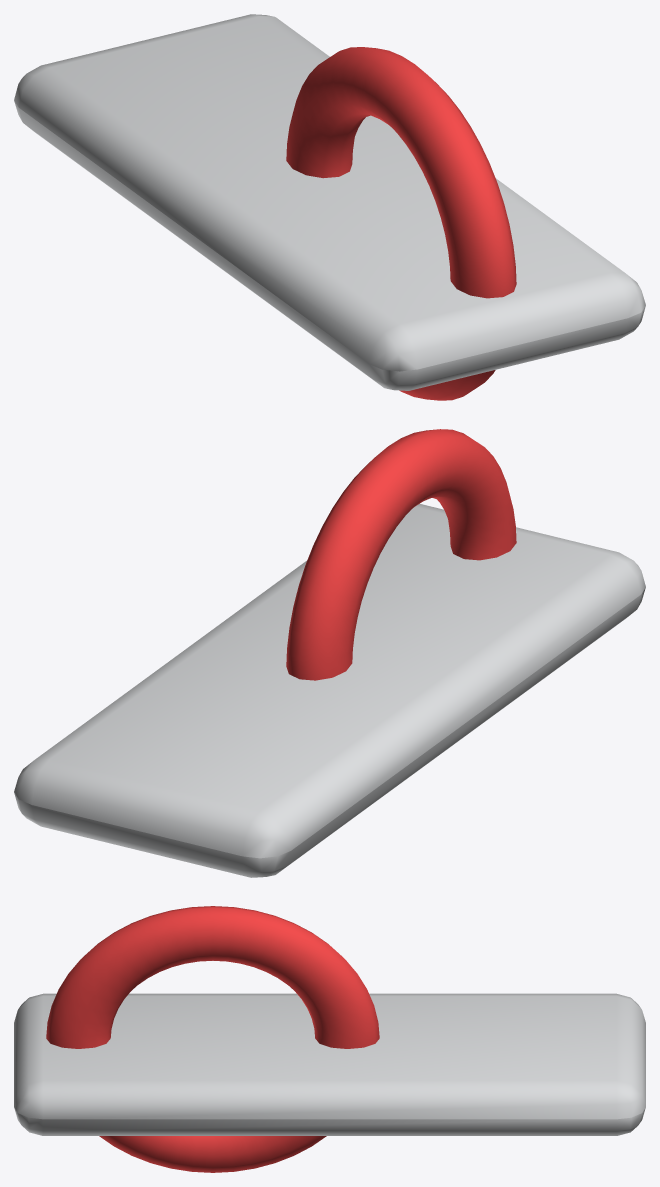
Rendered from slipper.glb.
3 renders of one model, top to bottom at view 1: azimuth 30°, elevation 25°; view 2: azimuth 150°, elevation 25°; view 3: azimuth 270°, elevation 25°, orthographic. The views are drawn at different scales.
Visible parts, largest first — view 1: Sole, Strap; view 2: Sole, Strap; view 3: Sole, Strap.
Boxes of the visible parts, left/top/right/bottom form: Sole: left=14, top=14, right=645, bottom=390; Strap: left=286, top=47, right=516, bottom=400; Sole: left=14, top=503, right=645, bottom=877; Strap: left=286, top=429, right=516, bottom=680; Sole: left=14, top=993, right=645, bottom=1135; Strap: left=46, top=906, right=379, bottom=1172.
Bounding box in the file's own units: 0.11 × 0.124 × 0.27.
